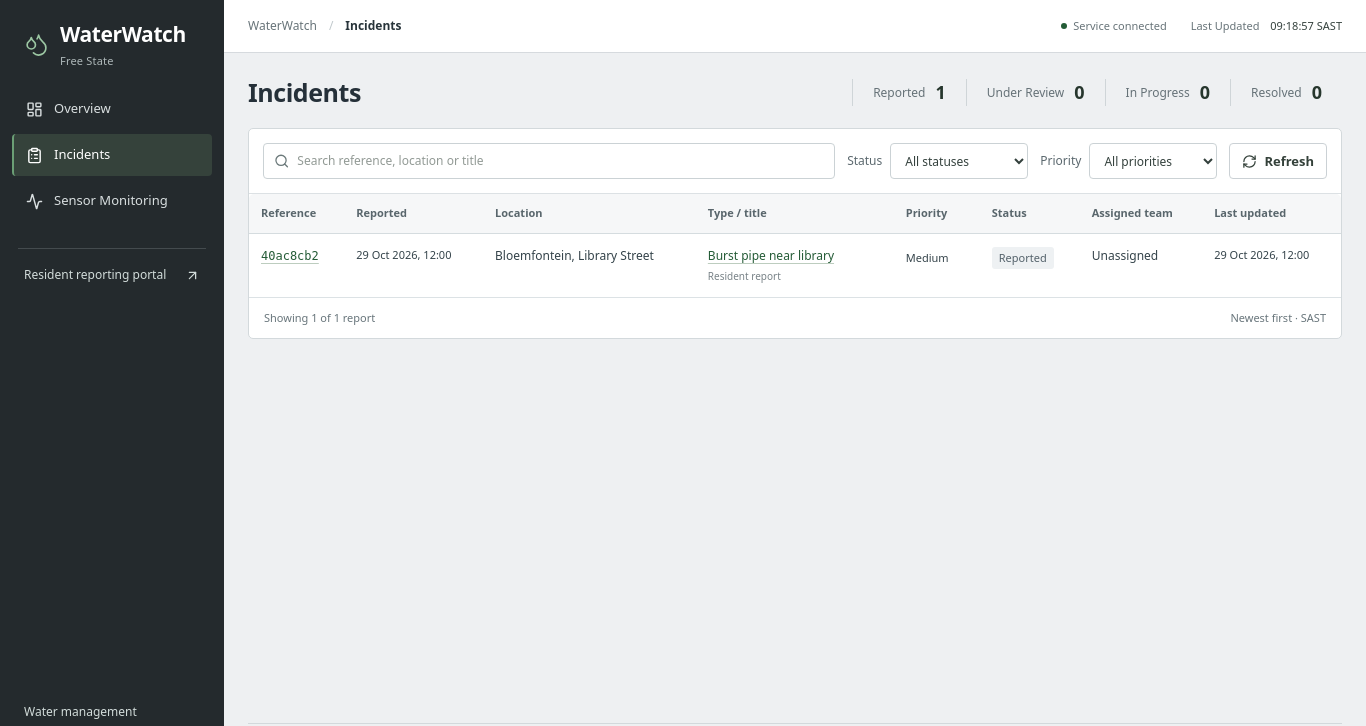
Scenario: municipal monitoring › opens an incident details route using a single-record lookup
Click the link "Burst pipe near library": [771, 255] box [708,247,834,264]
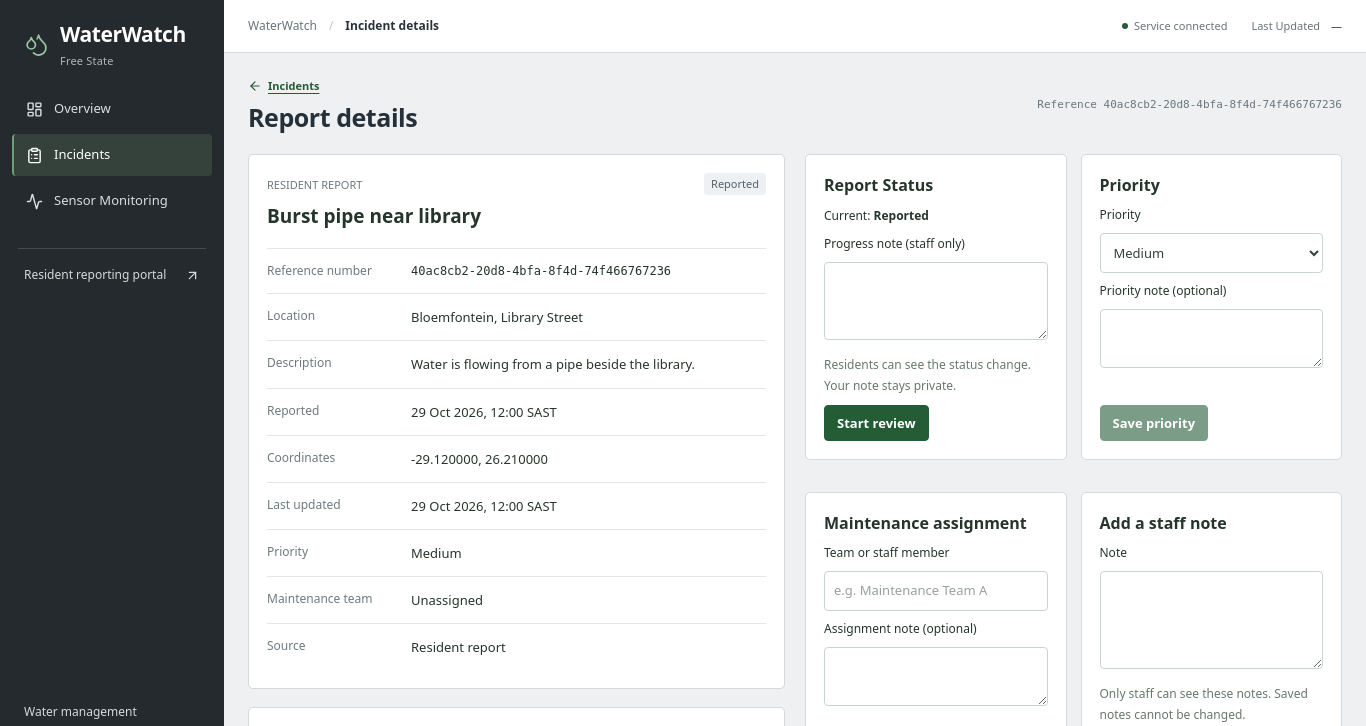
Expected: the heading "Report details" is shown, [248,102,417,134]
Expected: the text "-29.120000, 26.210000" is shown, [411,450,548,468]
Expected: the text "Water is flowing from a pipe beside the library." is shown, [411,356,695,374]
